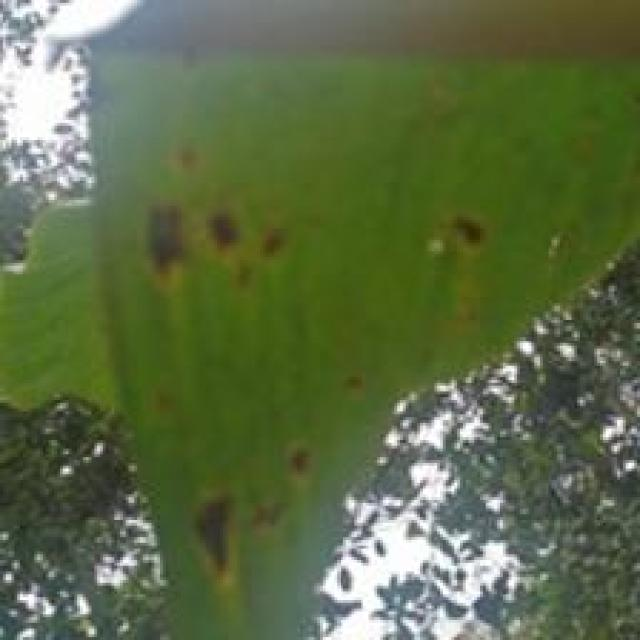Downey_mildrew: (126, 377, 394, 640), (115, 120, 318, 348), (429, 173, 529, 281), (168, 27, 218, 86)
